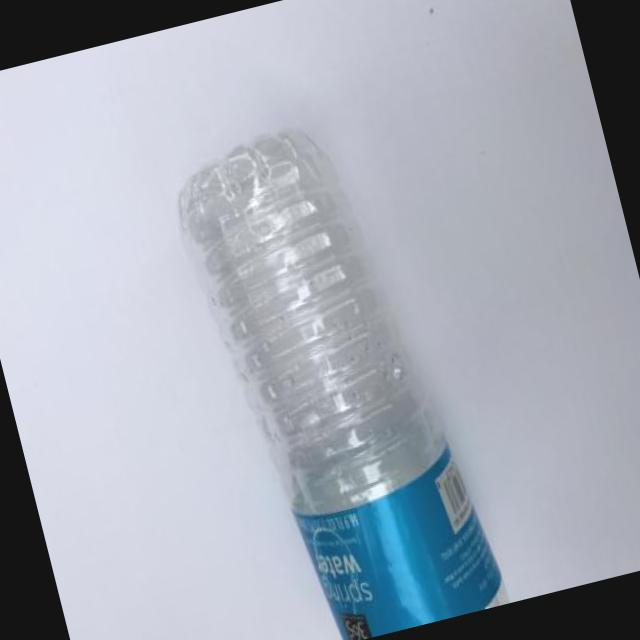Recycle: (162, 99, 512, 640)
